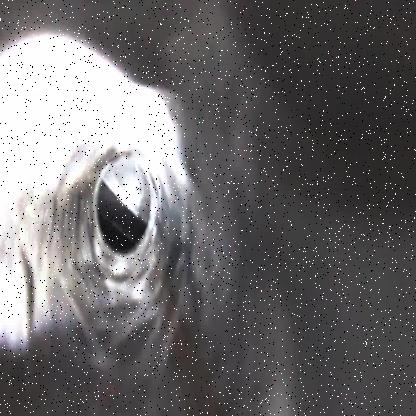Crack: (59, 70, 204, 356)
